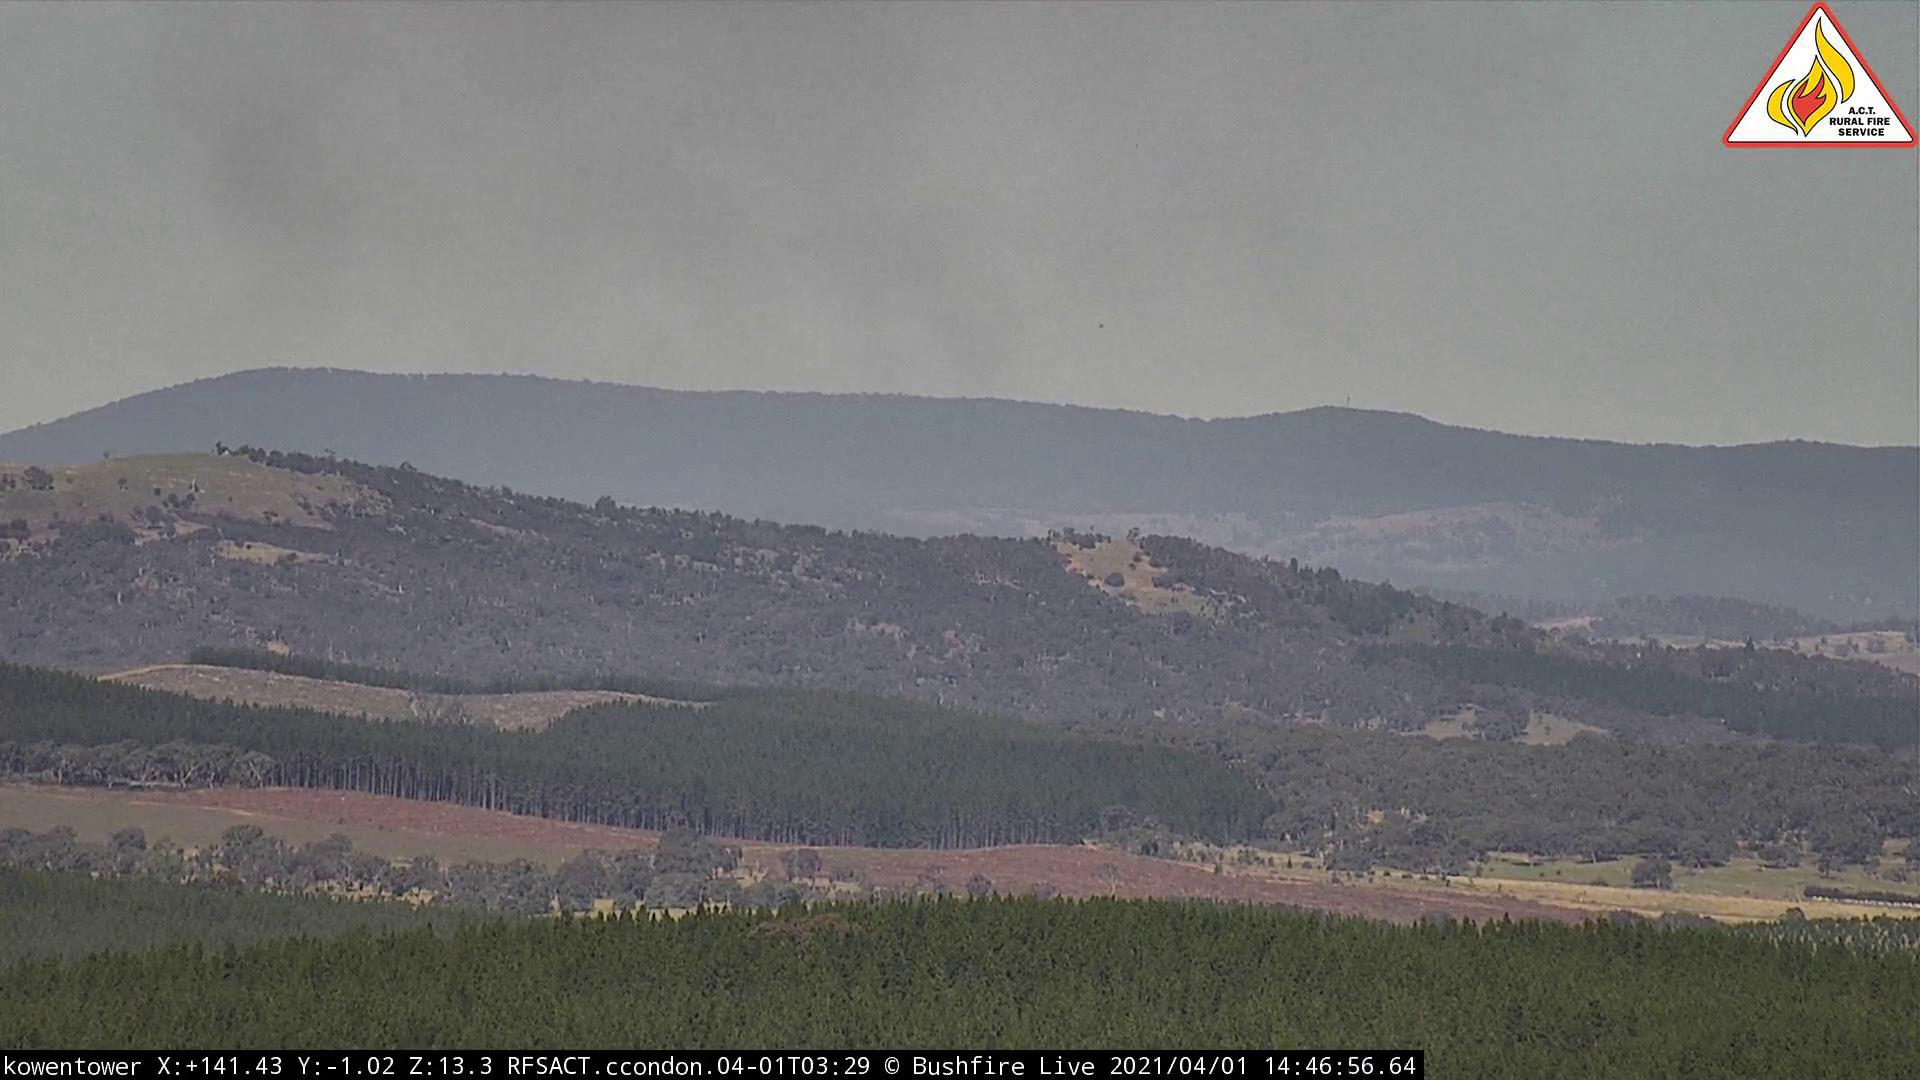instance_salient_object: (149, 3, 1124, 401)
